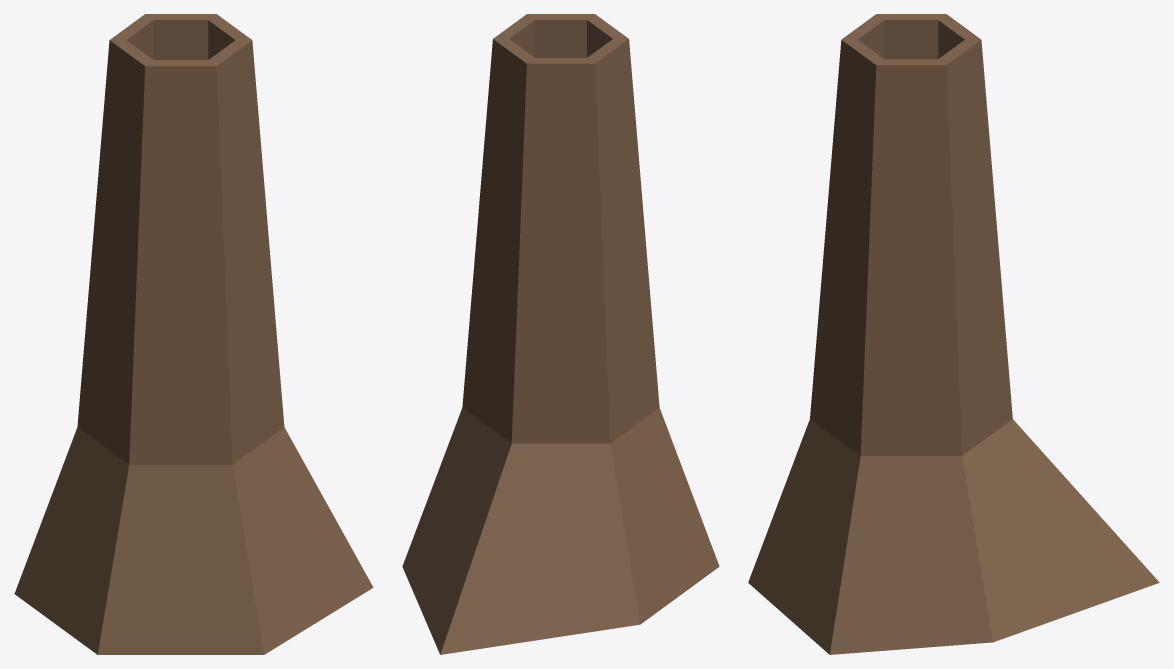
Rendered from Tree Trunk 1.fbx.
3 renders of one model, left to right at view 1: azimuth 30°, elevation 25°; view 2: azimuth 150°, elevation 25°; view 3: azimuth 270°, elevation 25°, orthographic. The views are drawn at different scales.
Visible parts, largest first — view 1: Tree Trunk 1; view 2: Tree Trunk 1; view 3: Tree Trunk 1.
Part boxes in pixels (x1,y1,x2,y2): Tree Trunk 1: (14, 14, 373, 654); Tree Trunk 1: (402, 14, 719, 654); Tree Trunk 1: (748, 14, 1159, 654).
Size of the model in its own units: 68.81 by 132 by 90.7.
Materials: 1 (1 with a texture image).
